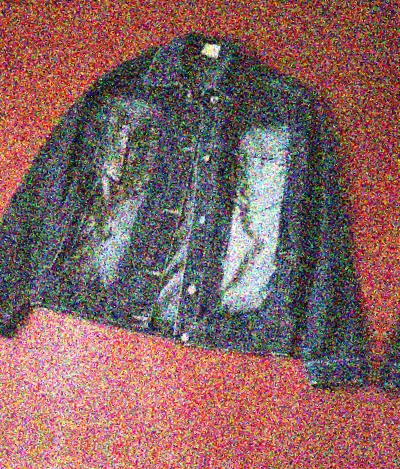Blazer: (0, 0, 400, 414), (385, 53, 400, 469)
